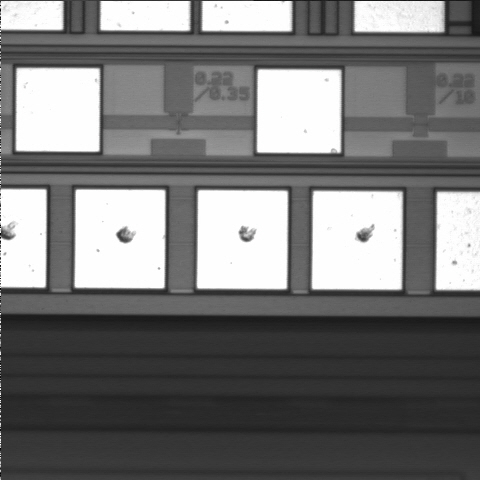pad: (197, 190, 288, 289), (312, 191, 402, 290), (75, 190, 165, 288), (16, 68, 100, 152), (257, 70, 341, 153)
